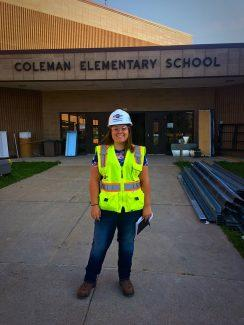helmet: (107, 110, 133, 128)
